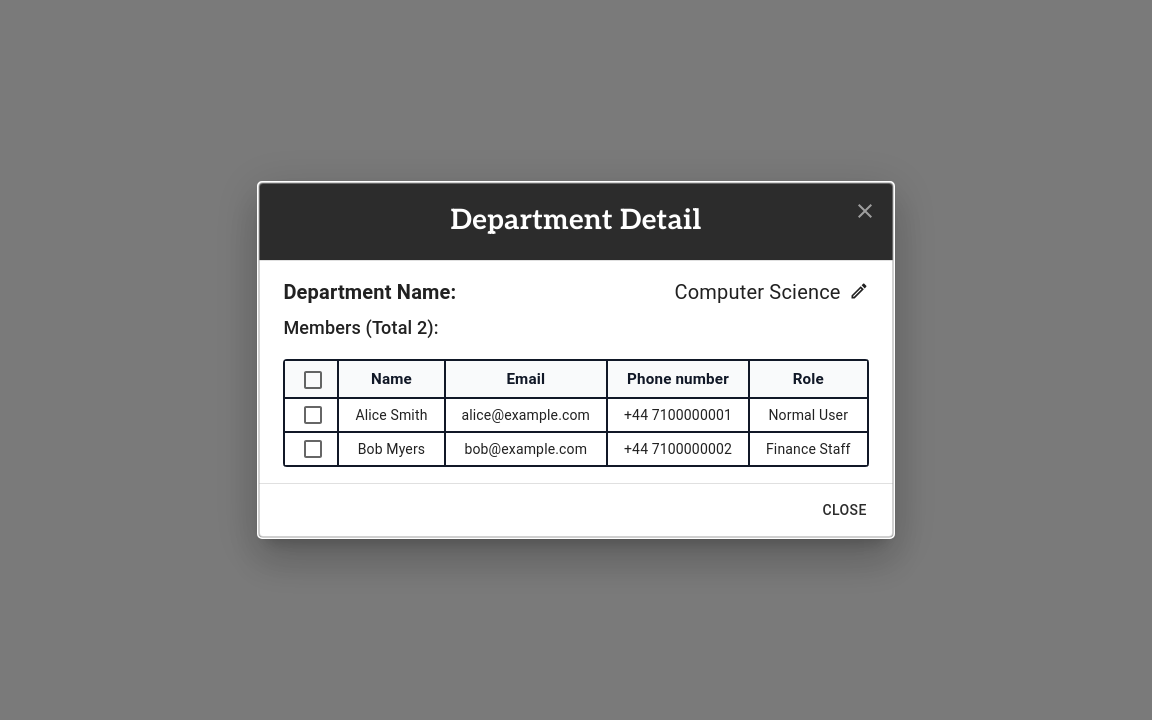
Scenario: Super-admin ViewDepartmentDialog › select-all then deselect via checkbox clears selection
The image size is (1152, 720).
Expected: the text "Alice Smith" is shown, 339,399 -> 446,433
What coordinates should you click on to do the following:
click the checkbox named "select all desserts"
I would click on:
 (313, 380)
Its box is 301,368 -> 325,392.
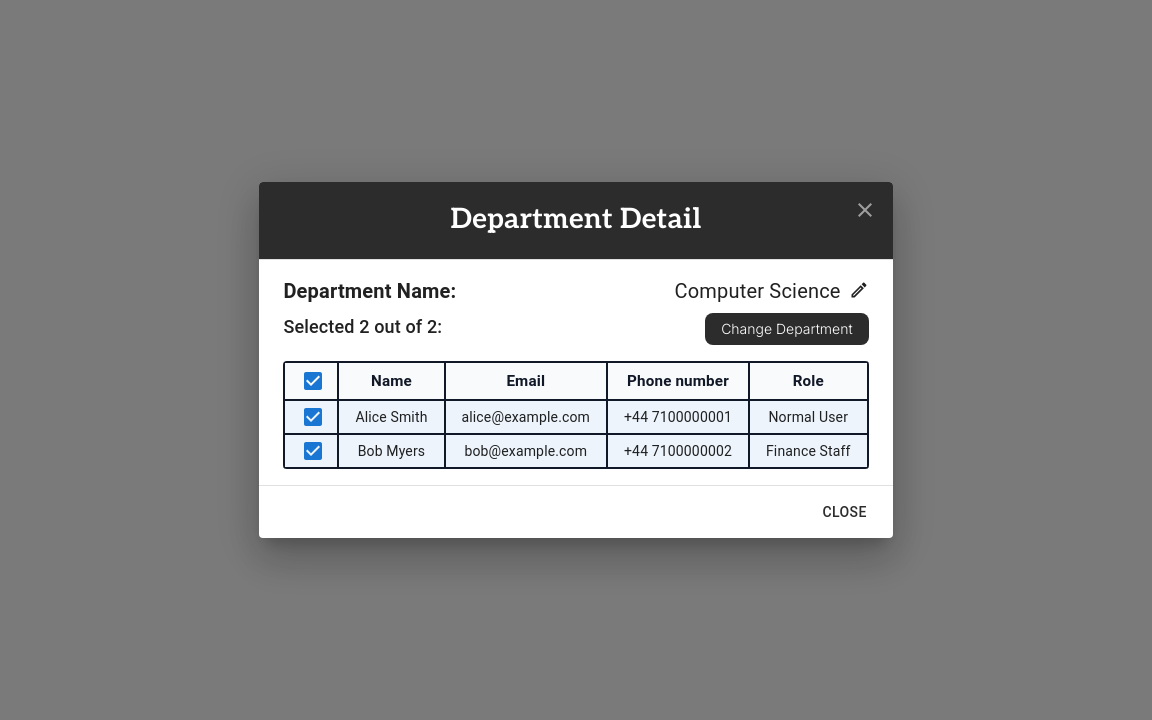
Now the text "Selected 2 out of 2:" is shown, box 283,313 -> 442,345
What coordinates should you click on to do the following:
click the checkbox named "select all desserts"
I would click on:
 (313, 381)
Its box is 301,369 -> 325,393.
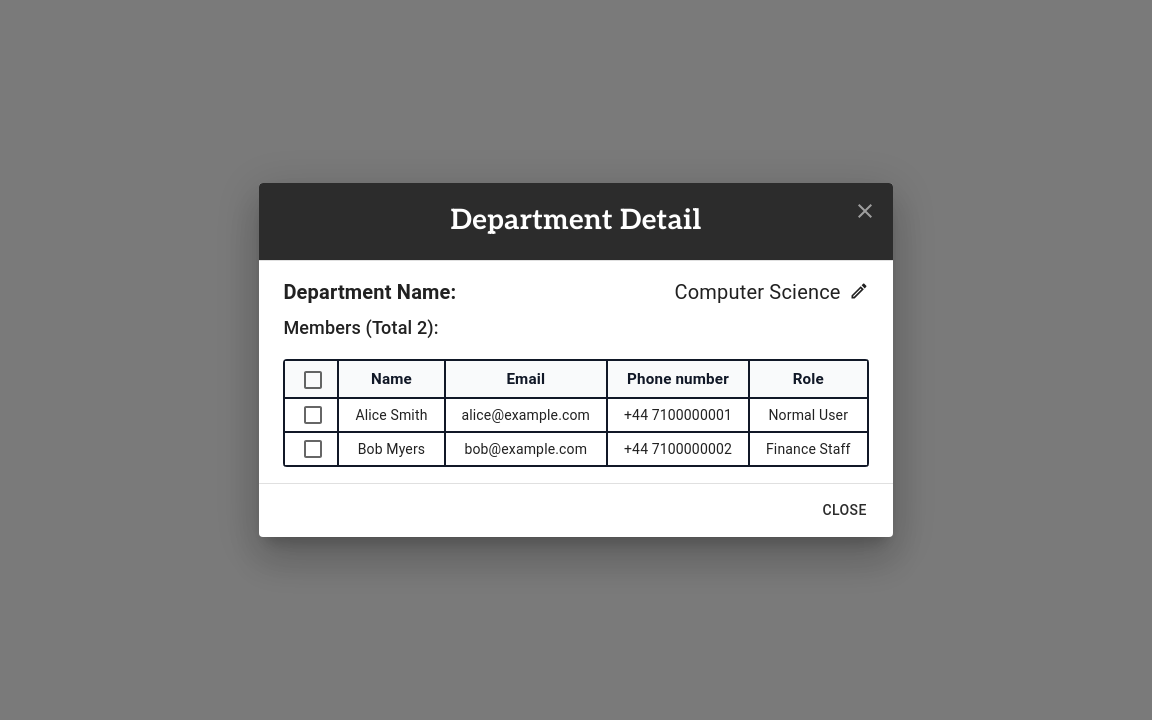
Now the text "Members (Total 2):" is shown, box 283,314 -> 439,343
